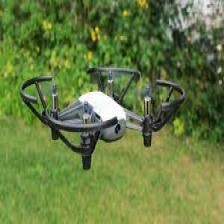drone: (46, 74, 155, 142)
